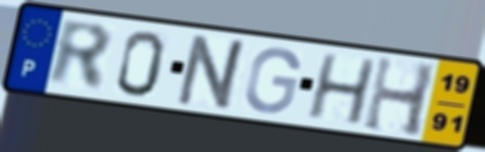0: (114, 28, 170, 98)
G: (242, 45, 303, 116)
H: (360, 53, 440, 140), (303, 52, 379, 128)
N: (172, 32, 253, 114)
R: (46, 17, 115, 94)
